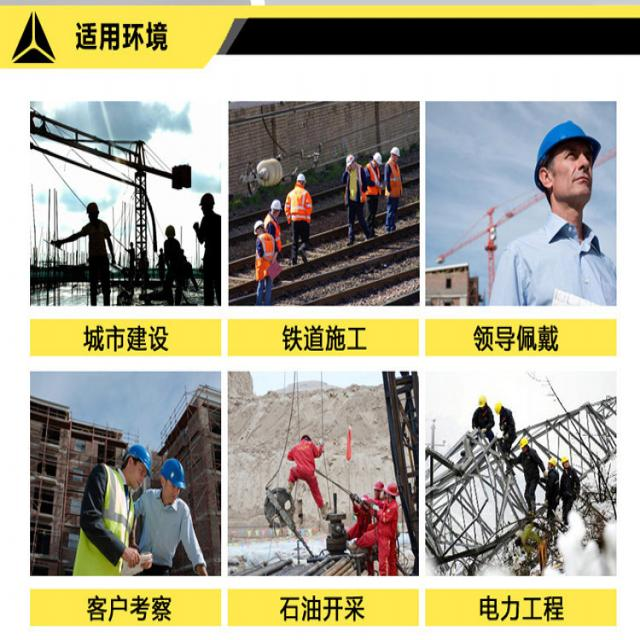Reflective-Jacket: (72, 463, 137, 575), (284, 436, 323, 508), (256, 233, 276, 280), (378, 500, 400, 541), (290, 188, 312, 223), (346, 165, 362, 202), (386, 163, 402, 197), (366, 164, 382, 196)
Safety-Helmet: (532, 118, 602, 181), (121, 440, 154, 472), (158, 456, 188, 488), (266, 215, 278, 232), (386, 481, 399, 496), (477, 392, 488, 408), (295, 172, 308, 185), (519, 436, 531, 450), (270, 198, 282, 211), (494, 399, 504, 414), (374, 479, 385, 492), (346, 152, 356, 166), (372, 150, 382, 164), (390, 146, 402, 157), (561, 453, 571, 466), (254, 219, 264, 231), (549, 456, 557, 466)
